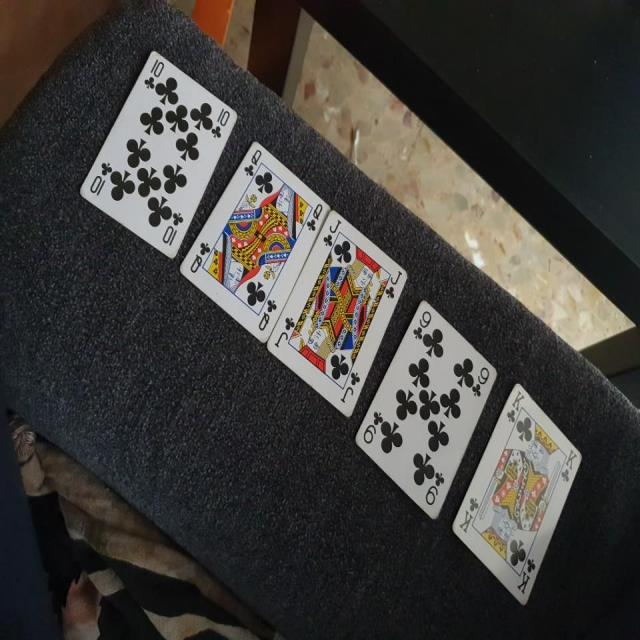10 Trefoils: (76, 46, 237, 260)
9 Trefoils: (352, 294, 497, 521)
J Trefoils: (266, 210, 406, 417)
K Trefoils: (448, 382, 580, 606)
Q Trefoils: (179, 140, 332, 342)
